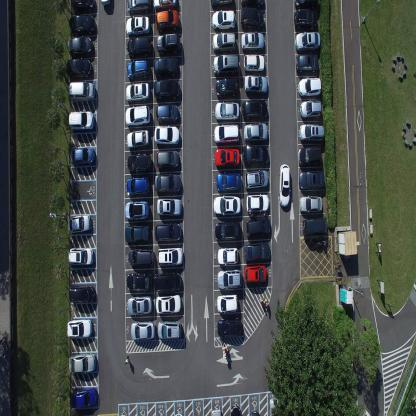car: (70, 385, 98, 410), (69, 352, 97, 376), (212, 194, 242, 216), (68, 13, 96, 36), (242, 143, 269, 166), (68, 81, 96, 103), (240, 6, 264, 31), (130, 318, 156, 341), (127, 293, 153, 316), (125, 104, 151, 127), (154, 171, 181, 193), (157, 244, 184, 266), (155, 292, 182, 314), (126, 270, 153, 292), (241, 99, 268, 121), (213, 99, 240, 121), (68, 110, 95, 132), (66, 58, 93, 80), (214, 220, 241, 242), (244, 241, 271, 263), (245, 216, 272, 238), (66, 317, 93, 339), (154, 220, 182, 241), (212, 31, 236, 55), (213, 121, 238, 144), (216, 170, 242, 192), (154, 126, 180, 148), (157, 318, 183, 340), (124, 222, 150, 244), (70, 146, 96, 168), (212, 54, 238, 76), (216, 268, 242, 290), (154, 9, 180, 31), (153, 57, 180, 78), (153, 79, 180, 100), (278, 161, 290, 208), (154, 270, 182, 290), (126, 174, 150, 197), (298, 75, 322, 98), (127, 36, 151, 59), (67, 285, 96, 304), (129, 245, 154, 267), (125, 198, 150, 220), (127, 152, 152, 174), (214, 146, 239, 168), (299, 122, 324, 144), (155, 103, 180, 125), (302, 216, 327, 238), (299, 170, 324, 192), (297, 146, 322, 168), (68, 247, 94, 268), (294, 30, 321, 50), (215, 77, 238, 100), (126, 128, 150, 150), (244, 74, 268, 96), (298, 99, 322, 121), (156, 34, 180, 56), (244, 168, 268, 190), (244, 264, 268, 286), (293, 8, 317, 30), (157, 195, 182, 216), (67, 213, 92, 234), (243, 122, 268, 143), (245, 193, 270, 214), (217, 316, 243, 336), (67, 36, 93, 56), (127, 59, 150, 81), (299, 193, 322, 215), (156, 149, 180, 170), (126, 82, 150, 103), (212, 9, 236, 30), (126, 15, 150, 36), (240, 32, 265, 52), (216, 292, 238, 314), (296, 53, 318, 74), (217, 245, 239, 266), (242, 55, 264, 74), (127, 0, 153, 15), (293, 0, 321, 11), (70, 0, 95, 11), (239, 0, 264, 8), (210, 0, 234, 8), (153, 0, 177, 8), (230, 403, 242, 415), (100, 0, 112, 8), (249, 408, 260, 416), (210, 408, 222, 415)
